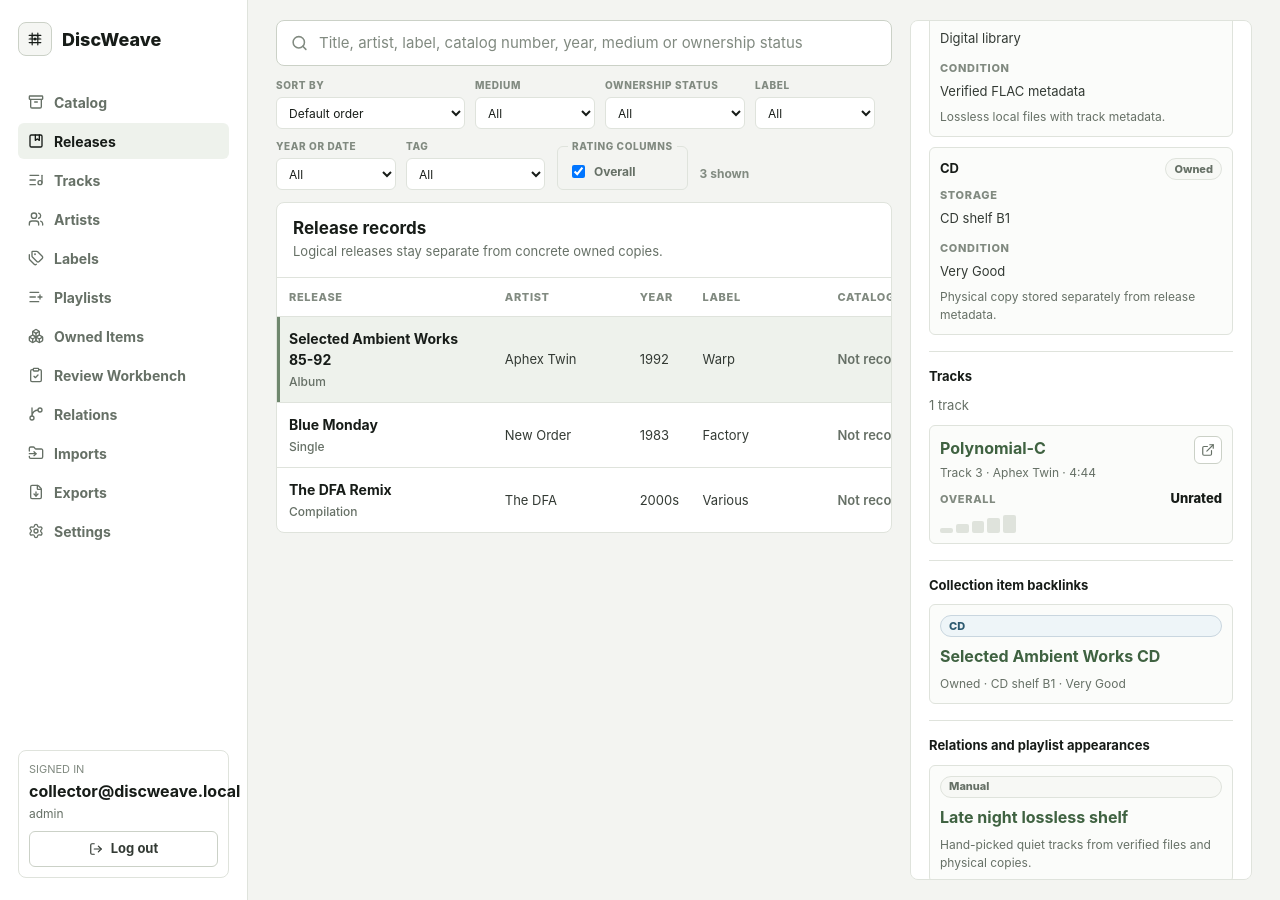
Test: App release Track quick open › shows a scoped chooser when the selected Release has multiple files
The width and height of the screenshot is (1280, 900).
(page scrolled)
What coordinates should you click on to do the following:
click the button named "Open Polynomial-C in default player"
I would click on:
 (1208, 450)
Its box is left=1194, top=436, right=1222, bottom=464.
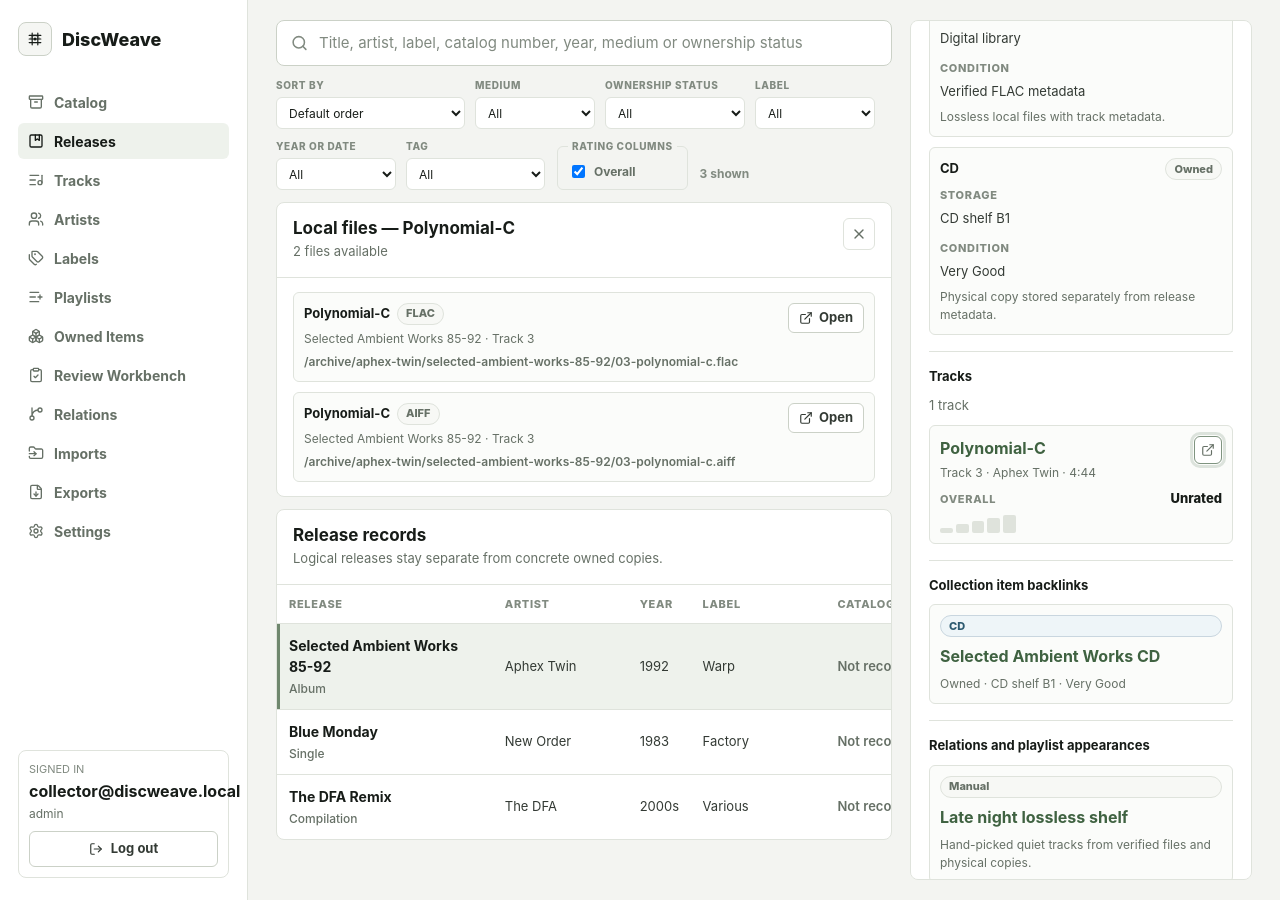
Result: the text "/archive/aphex-twin/selected-ambient-works-85-92/03-polynomial-c.flac" is shown at left=304, top=353, right=776, bottom=371
Result: the text "/archive/aphex-twin/selected-ambient-works-85-92/03-polynomial-c.aiff" is shown at left=304, top=453, right=776, bottom=471
